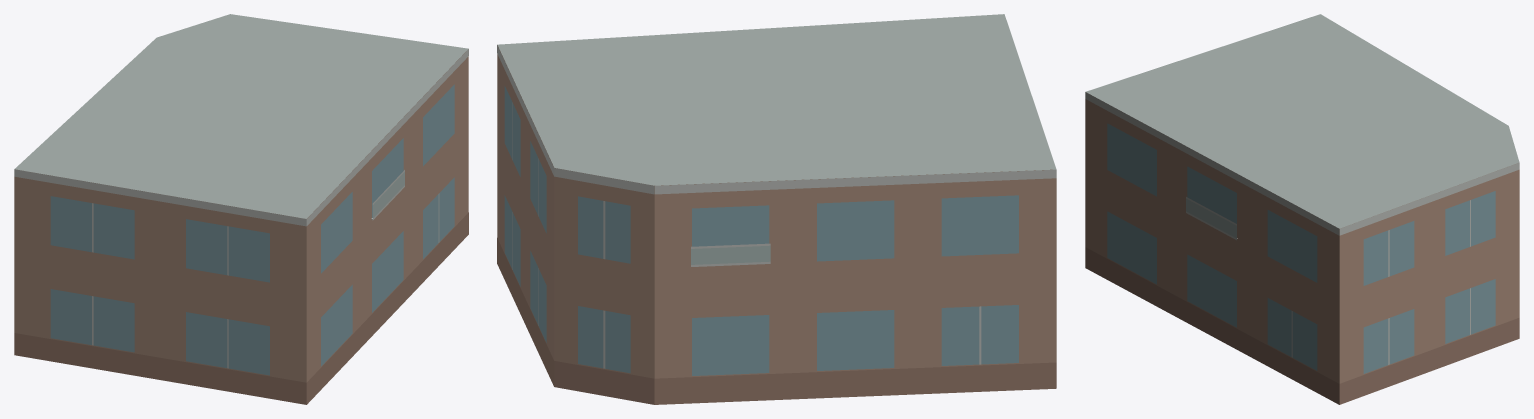
Rendered from survey-upis-32753747.glb.
3 renders of one model, left to right at view 1: azimuth 30°, elevation 25°; view 2: azimuth 150°, elevation 25°; view 3: azimuth 270°, elevation 25°, orthographic. The views are drawn at different scales.
Visible parts, largest first — view 1: survey-upis-32753747.tmp; view 2: survey-upis-32753747.tmp; view 3: survey-upis-32753747.tmp.
Part boxes in pixels (x1=…): survey-upis-32753747.tmp: x1=14, y1=14, x2=468, y2=404; survey-upis-32753747.tmp: x1=497, y1=14, x2=1056, y2=404; survey-upis-32753747.tmp: x1=1085, y1=14, x2=1519, y2=404.
Size of the model in its own units: 15.96 by 6.1 by 13.64.
